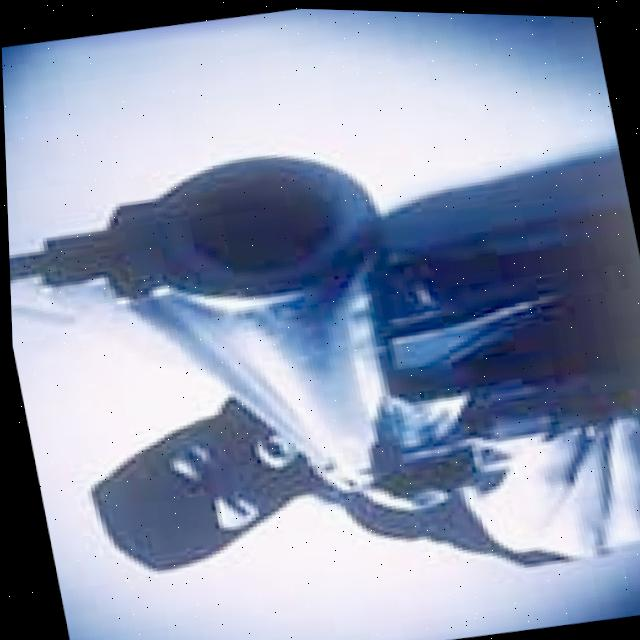pistol: (3, 100, 611, 571)
